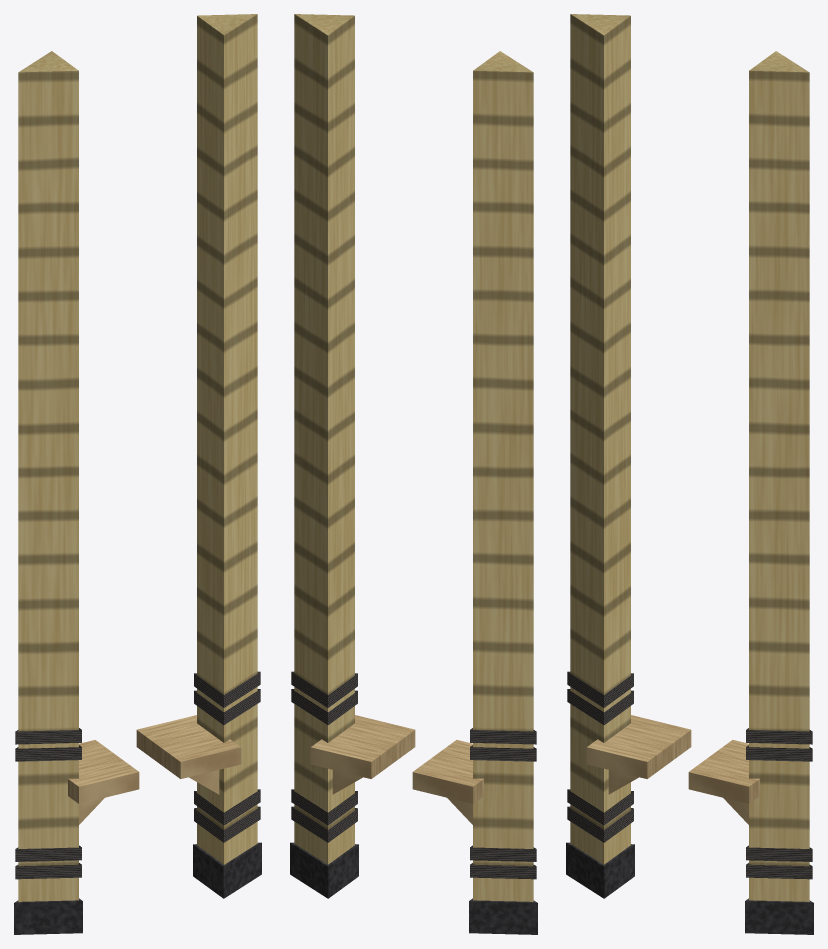
Rendered from EgrangAnak_Segitiga.fbx.
3 views of the same model, side by side, from view 1: azimuth 30°, elevation 25°; view 2: azimuth 150°, elevation 25°; view 3: azimuth 330°, elevation 25° (orthographic).
Parts seen in each view (by area): view 1: EgrangAnak_Segitiga_L, EgrangAnak_Segitiga_R; view 2: EgrangAnak_Segitiga_L, EgrangAnak_Segitiga_R; view 3: EgrangAnak_Segitiga_R, EgrangAnak_Segitiga_L.
Boxes of the visible parts, x1,y1,x2,y2 form: EgrangAnak_Segitiga_L: (14, 51, 139, 934); EgrangAnak_Segitiga_R: (136, 14, 261, 898); EgrangAnak_Segitiga_L: (412, 51, 537, 934); EgrangAnak_Segitiga_R: (290, 14, 415, 898); EgrangAnak_Segitiga_R: (688, 51, 813, 934); EgrangAnak_Segitiga_L: (566, 14, 691, 898).
Size of the model in its own units: 42.16 by 140 by 13.
Materials: 1 (1 with a texture image).
